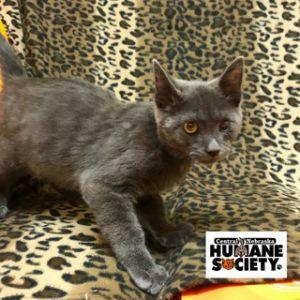rblue: (143, 50, 258, 176)
